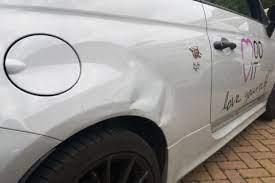quaterpanel-dent: (0, 0, 205, 138)
